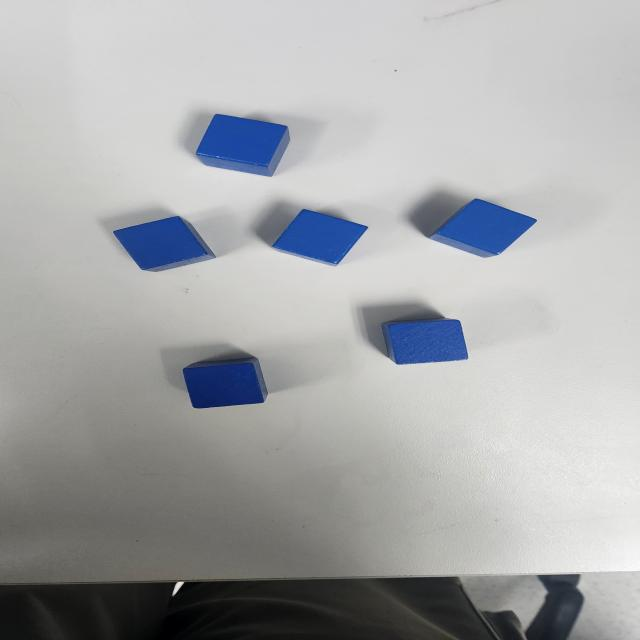blue: (429, 198, 538, 259), (195, 113, 290, 178), (112, 216, 217, 272), (272, 210, 368, 266), (182, 358, 268, 410), (381, 318, 468, 364)
